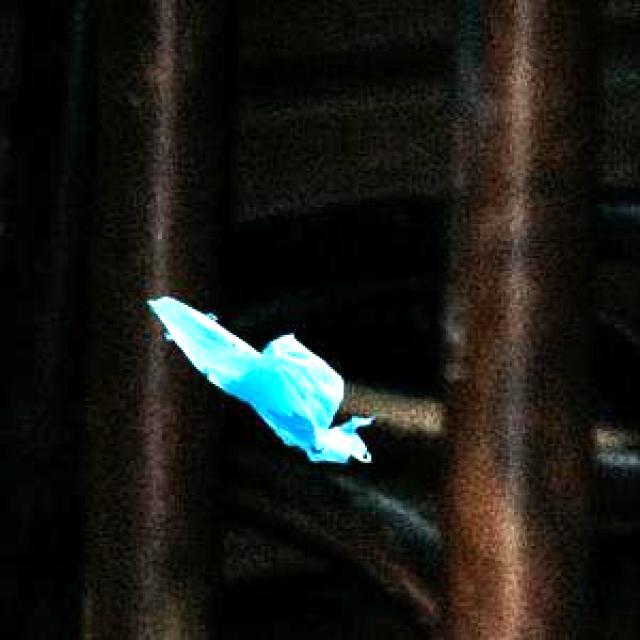Plastic_Bag: (146, 294, 368, 460)
